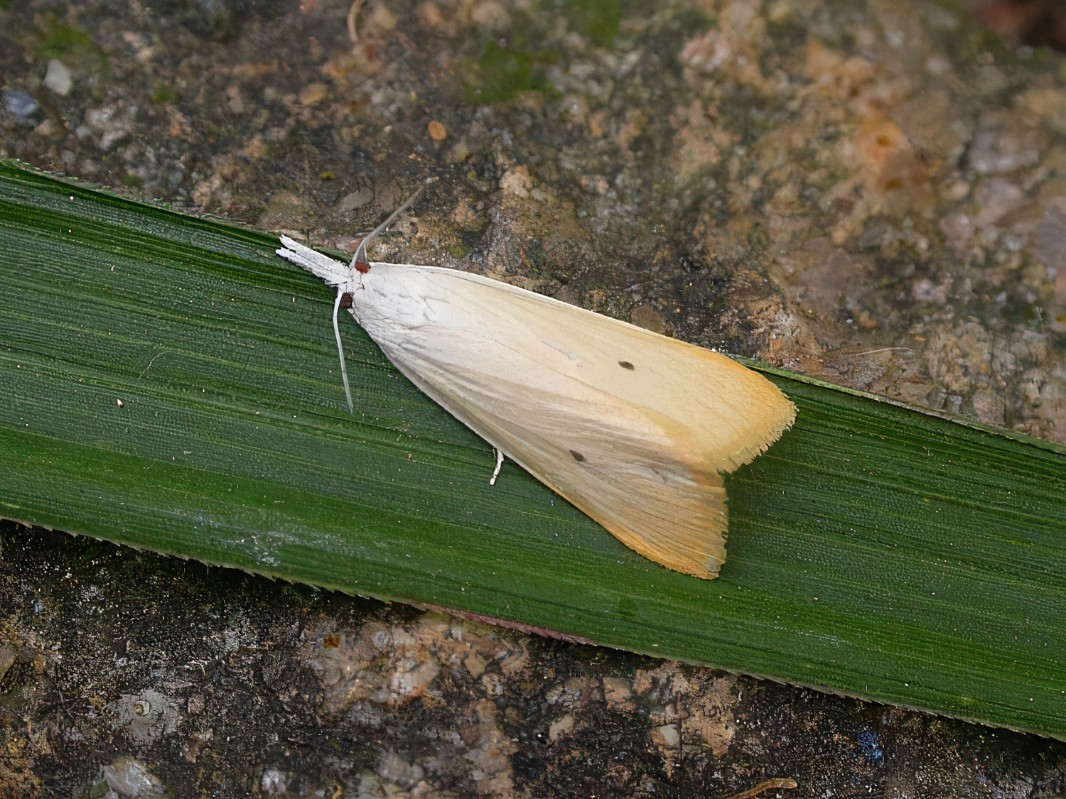Crambidae: (277, 230, 803, 589)
